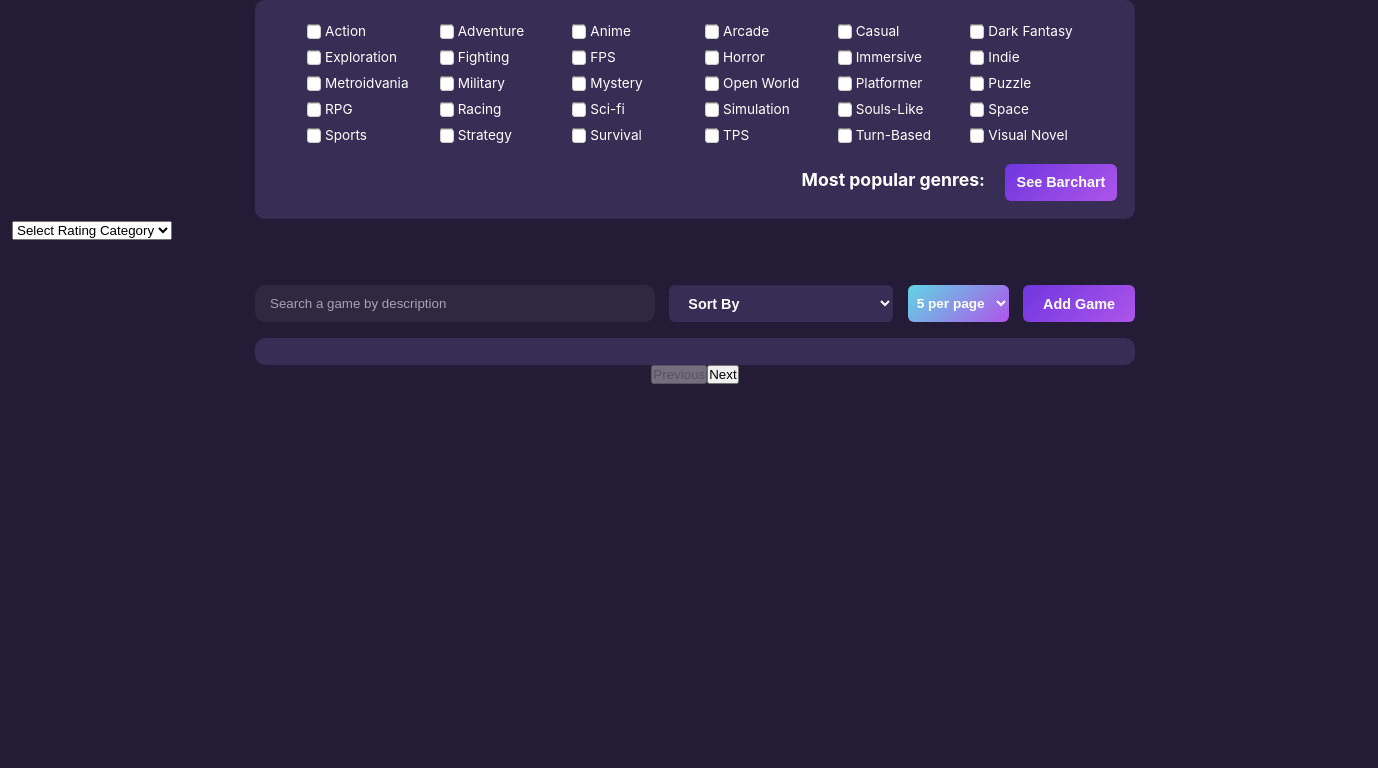
Test: Home component › adds a game
The image size is (1378, 768).
Click the button "Add Game".
click(1079, 304)  # box [1023,285,1135,322]
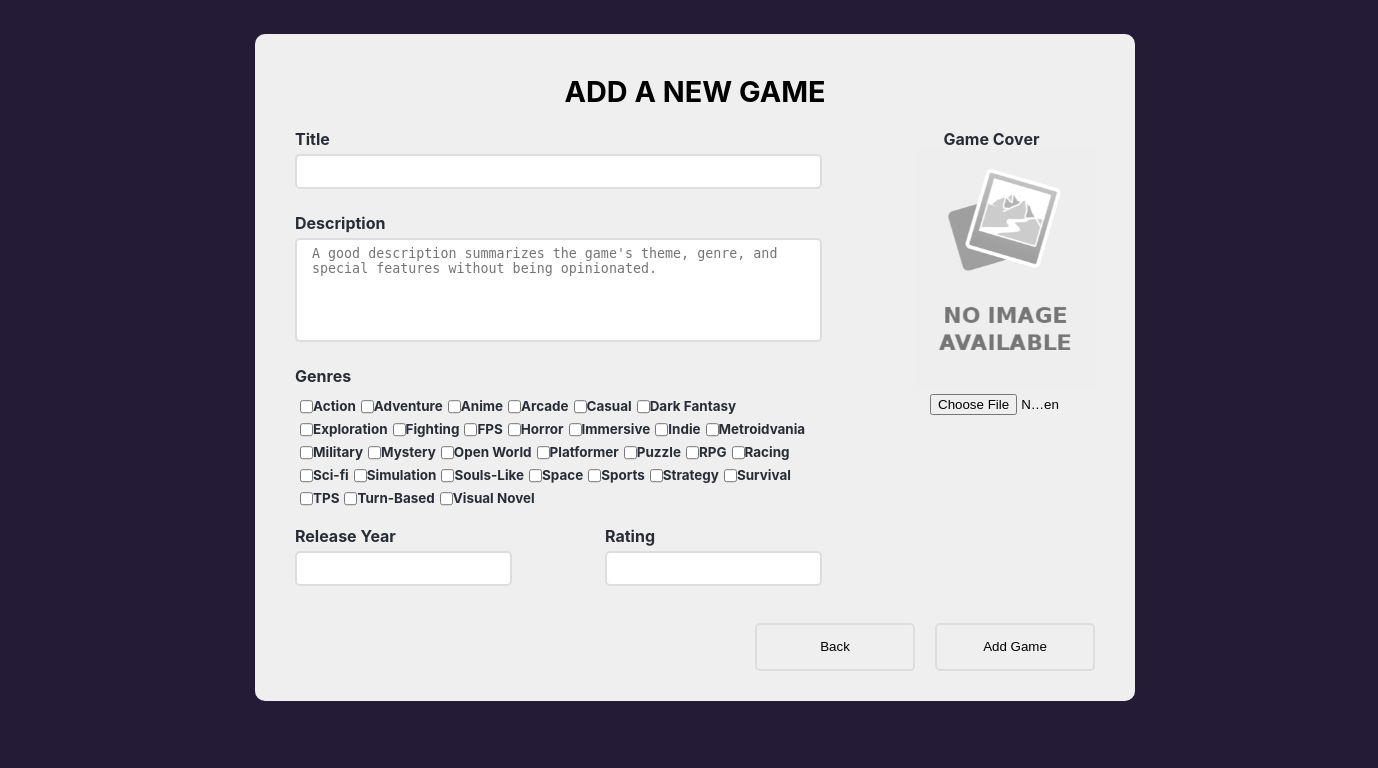
Expected: the button "Add Game" is shown, [935,623,1095,671]
